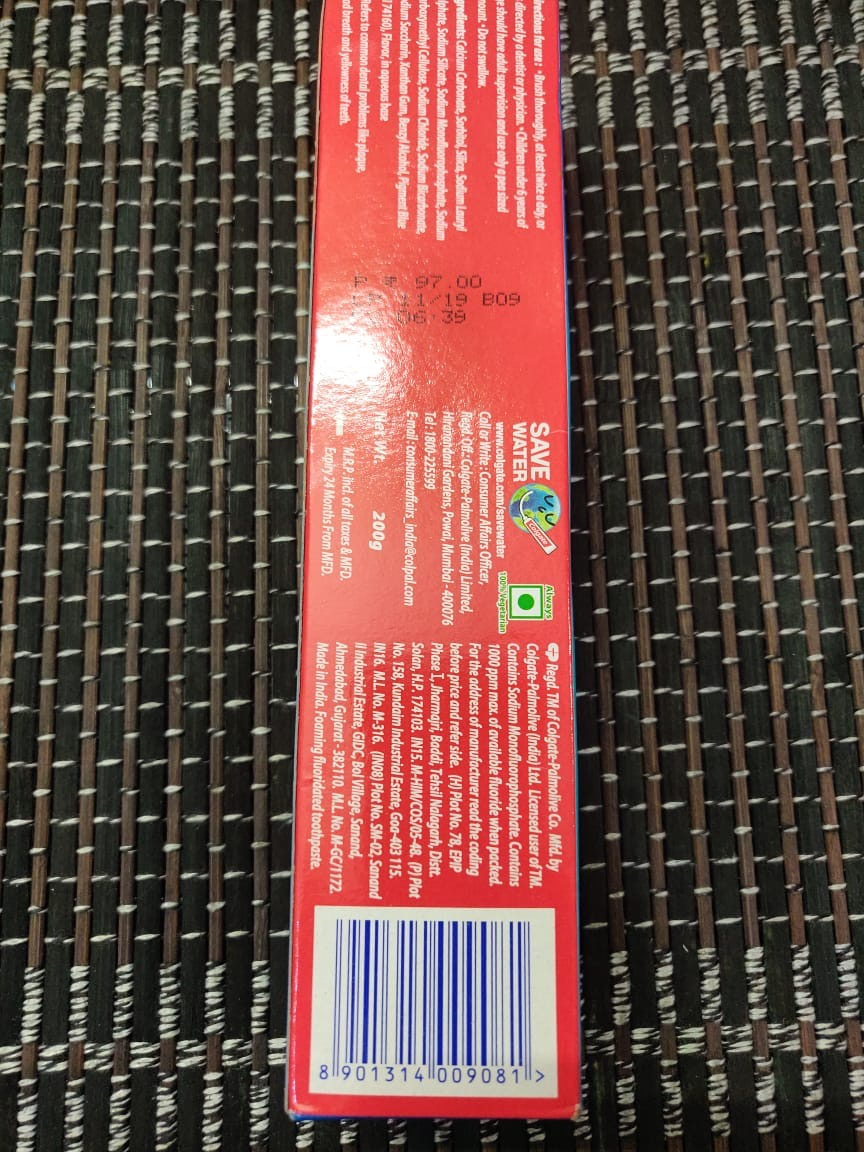barcode: (312, 913, 551, 1092)
